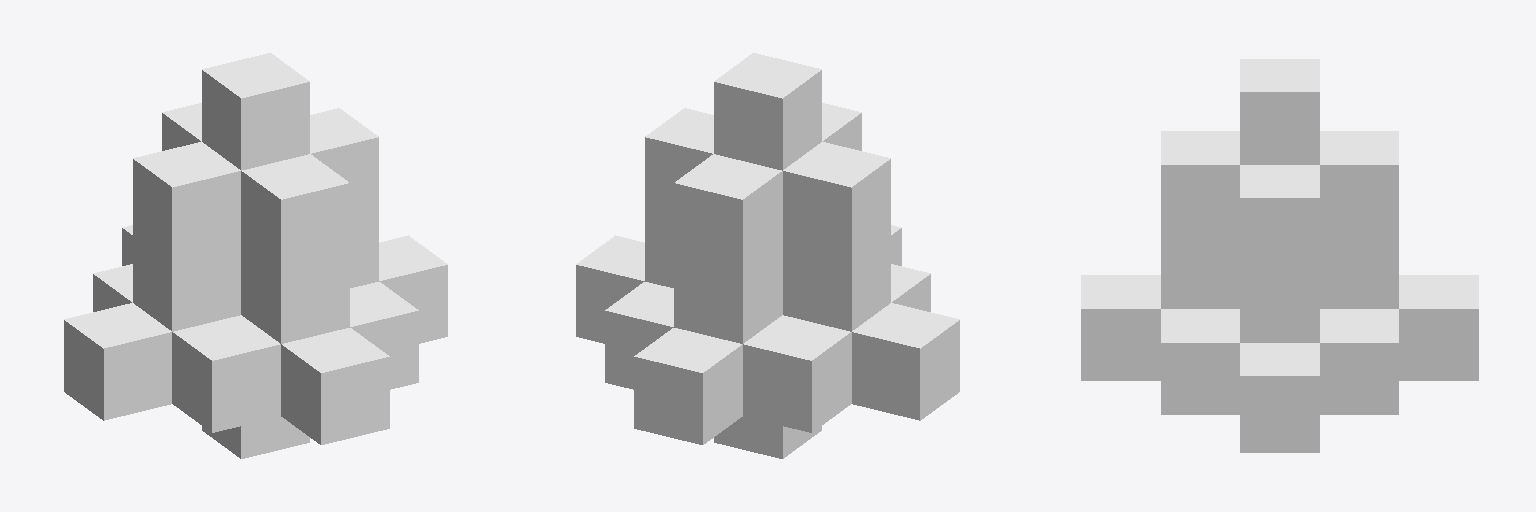
The model's file is SmallTree2.obj.
3 views of the same model, side by side, from view 1: azimuth 30°, elevation 25°; view 2: azimuth 150°, elevation 25°; view 3: azimuth 270°, elevation 25° (orthographic).
Size of the model in its own units: 5 by 5 by 5.